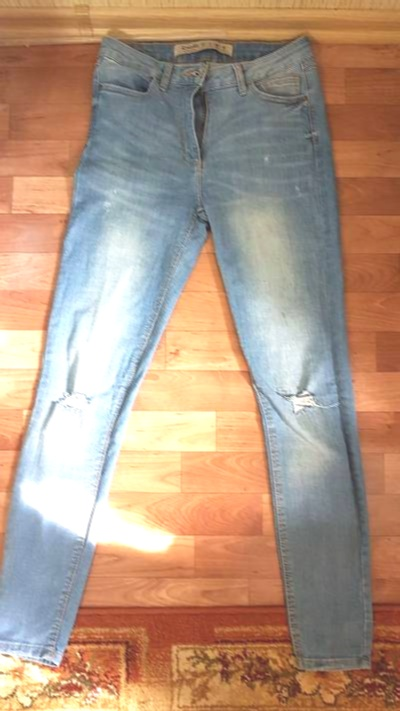Pants: (2, 27, 372, 690)
